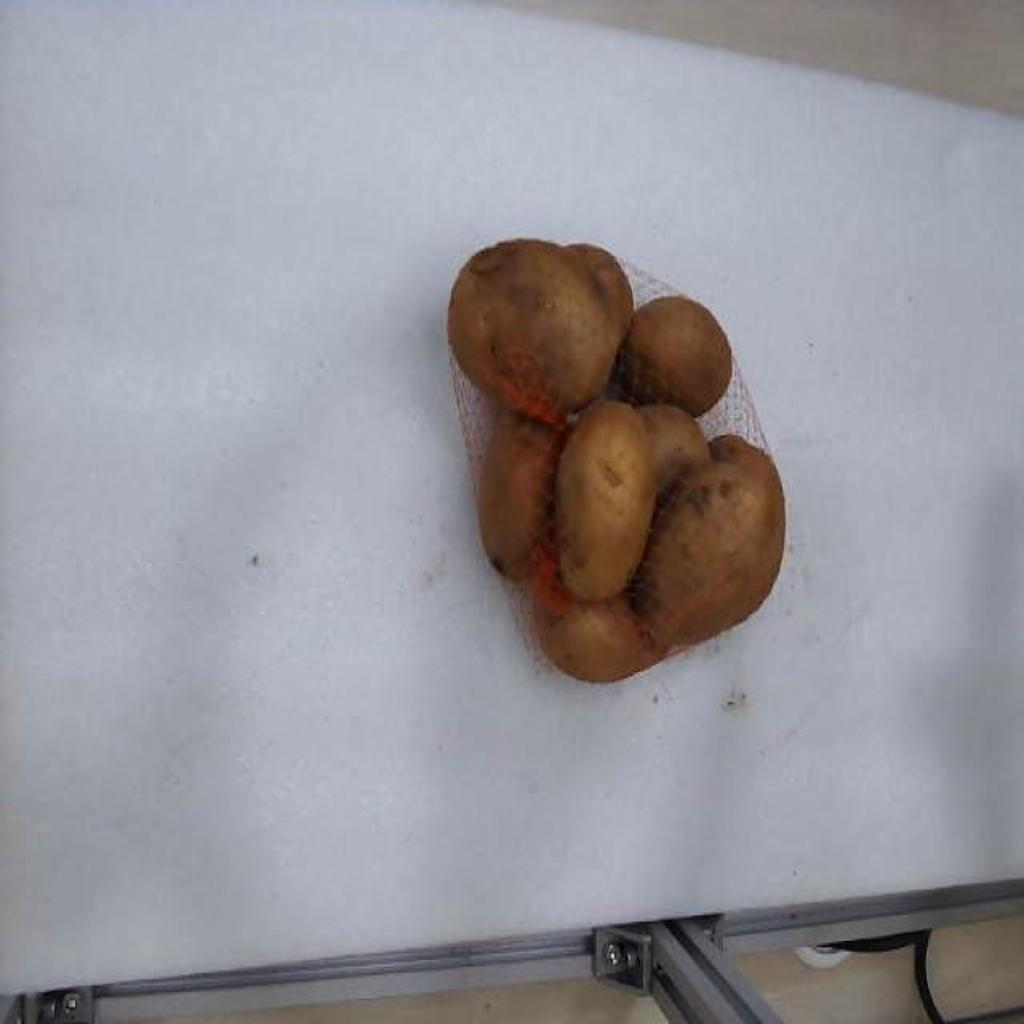potato: (448, 240, 634, 423), (632, 437, 784, 649), (556, 403, 656, 600), (478, 411, 564, 580), (620, 296, 732, 415), (536, 597, 662, 681), (638, 405, 710, 497)
